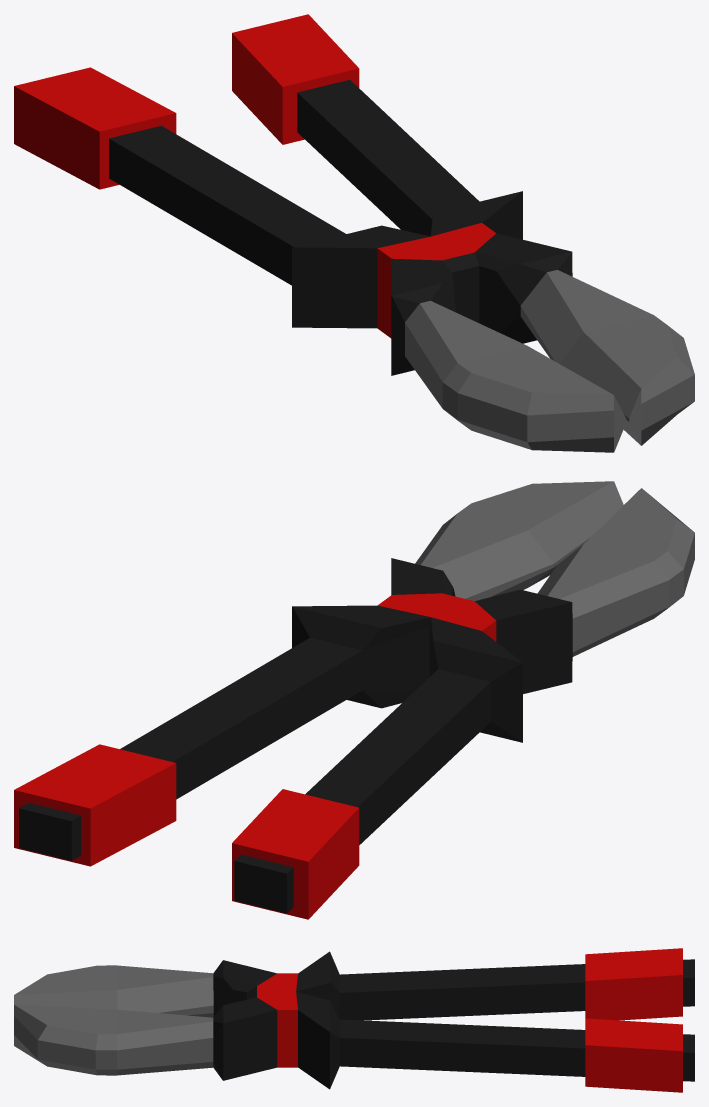
The model's file is bolt cutters.obj.
The picture shows the model from 3 angles, top to bottom: view 1: azimuth 30°, elevation 25°; view 2: azimuth 150°, elevation 25°; view 3: azimuth 270°, elevation 25°; orthographic projection. The views are drawn at different scales.
Parts seen in each view (by area): view 1: Cube_Cube.001; view 2: Cube_Cube.001; view 3: Cube_Cube.001.
Part boxes in pixels (x1=…): Cube_Cube.001: x1=14, y1=14, x2=694, y2=452; Cube_Cube.001: x1=14, y1=481, x2=694, y2=919; Cube_Cube.001: x1=14, y1=948, x2=694, y2=1092.
Bounding box in the file's own units: 3.01 × 0.7842 × 8.41.
